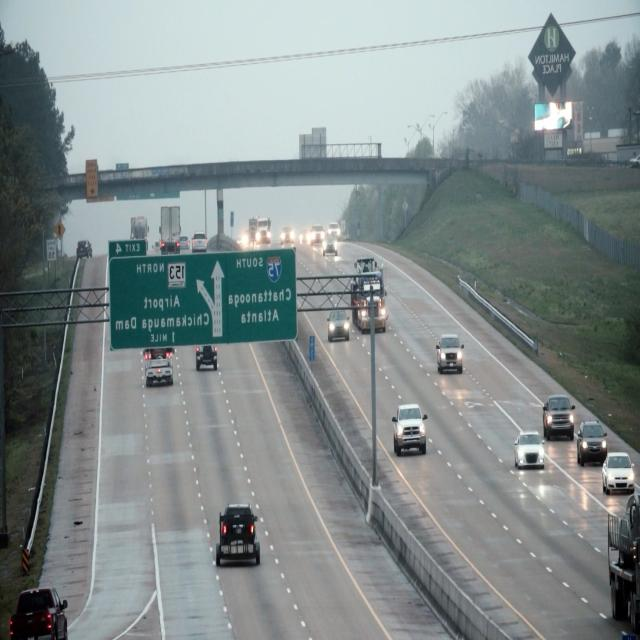Car: (215, 505, 258, 570), (353, 256, 388, 335), (391, 404, 428, 454), (575, 420, 607, 466), (602, 449, 632, 494), (542, 396, 572, 440), (513, 432, 545, 473), (141, 346, 173, 385), (436, 333, 465, 372), (328, 304, 350, 344)
